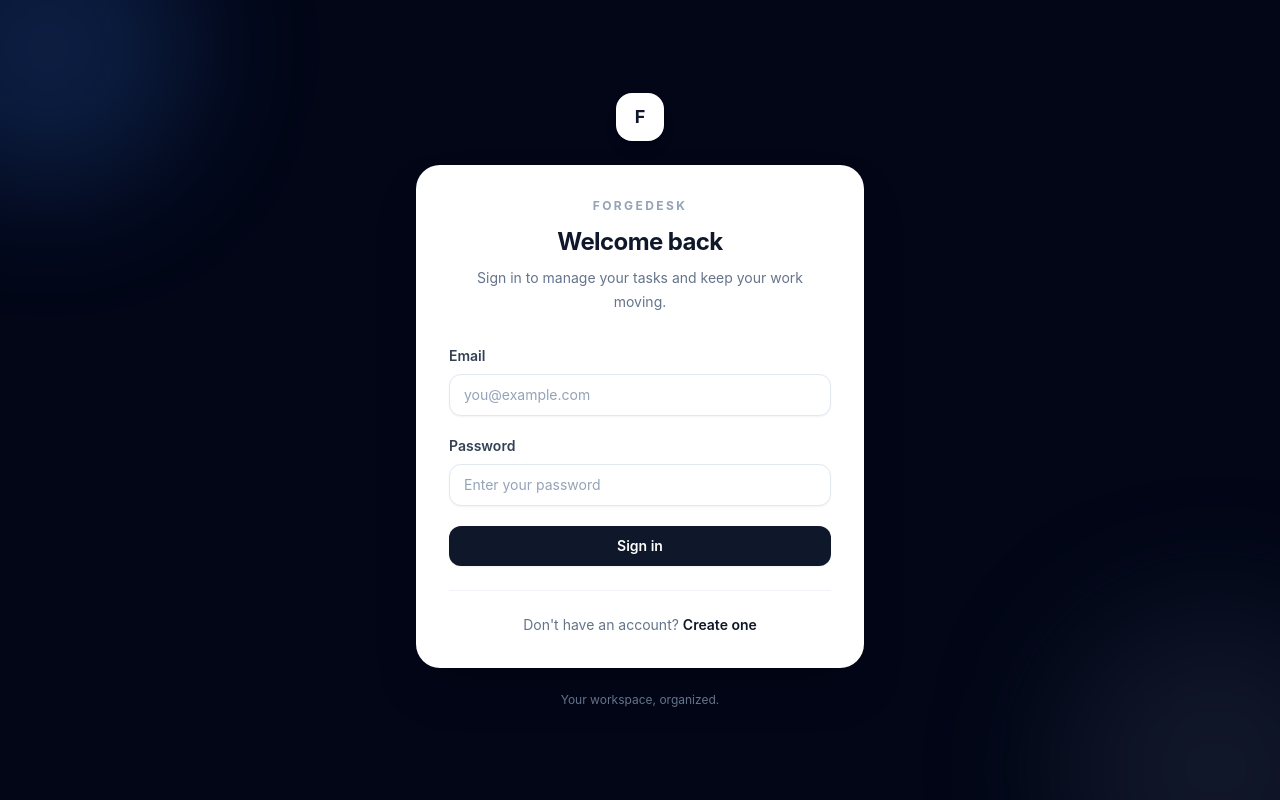
Login › displays an API error when login fails
In the field labelled "Email": (640,394) x1=449 y1=374 x2=831 y2=416, type "test@example.com"
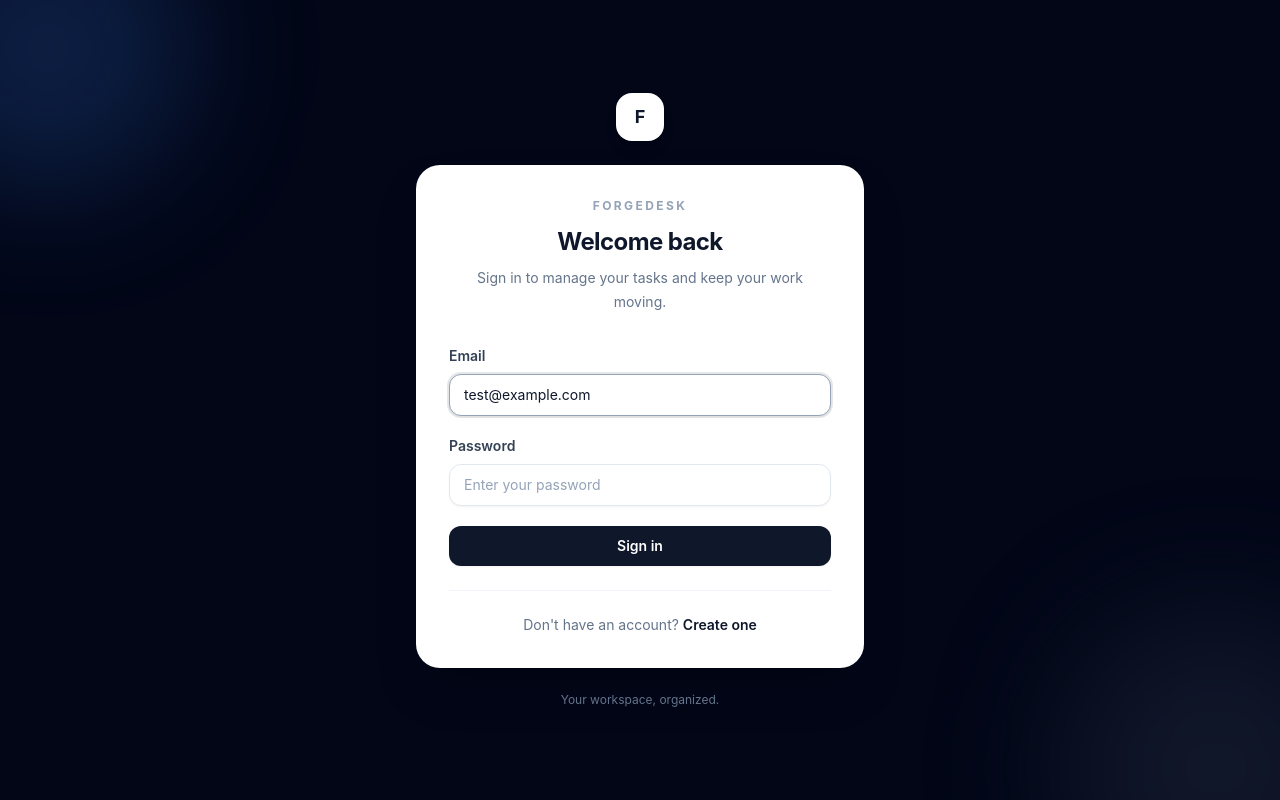
In the password field labelled "Password": (640,484) x1=449 y1=464 x2=831 y2=506, type "WrongPassword"
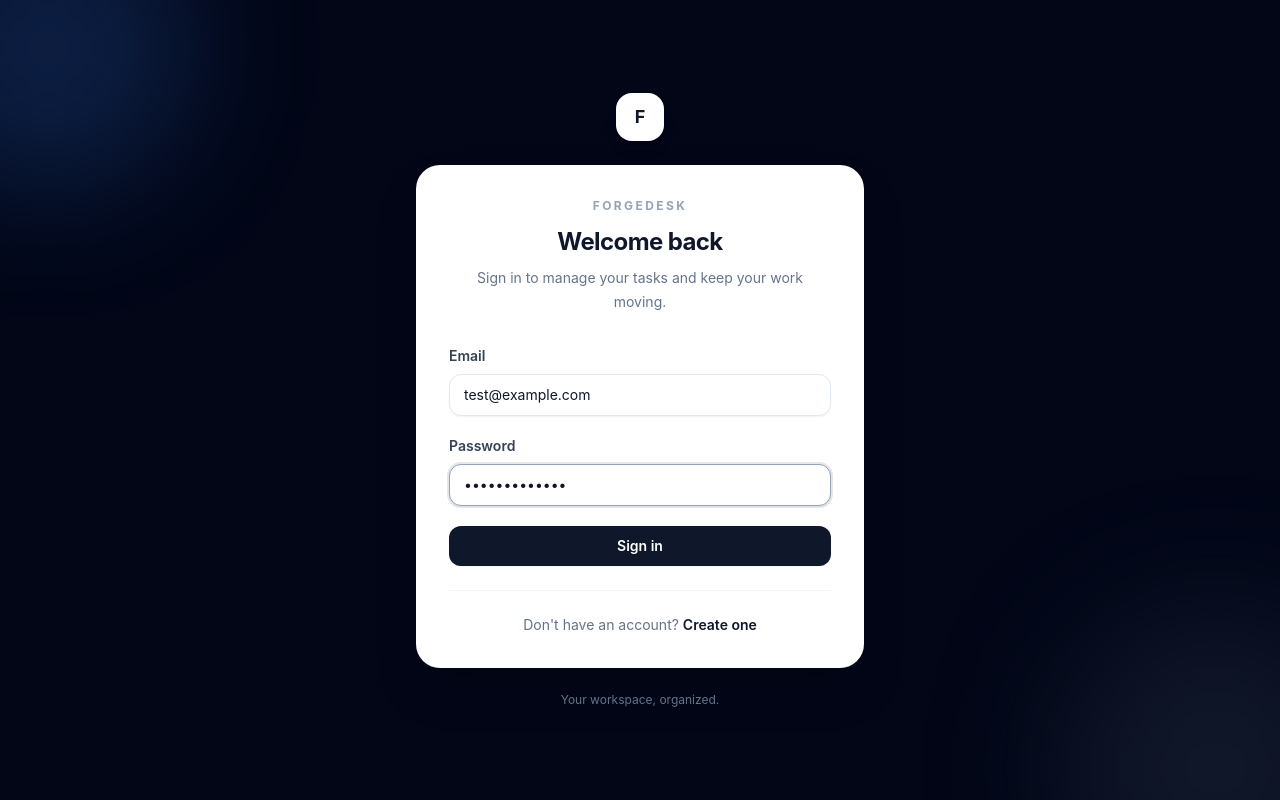
Click the button "Sign in": (640,546) x1=449 y1=526 x2=831 y2=566
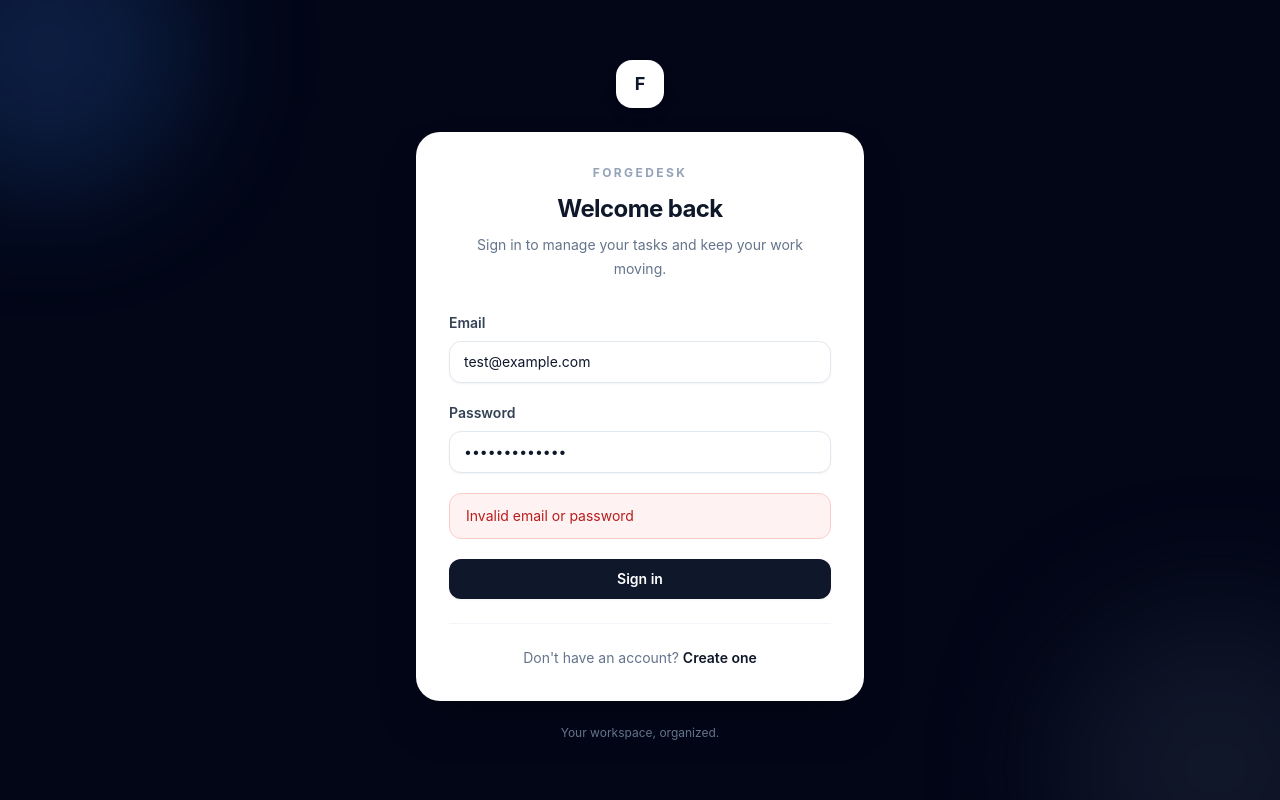
expect the text "Invalid email or password" is shown: met, box x1=449 y1=492 x2=831 y2=538
